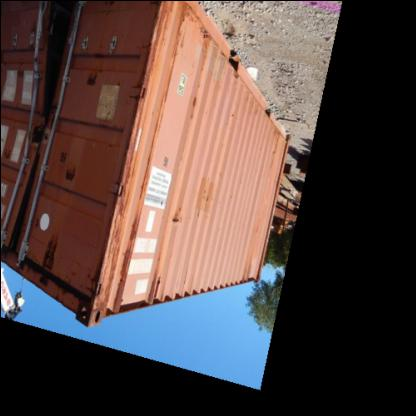Damage: (3, 0, 74, 138), (100, 203, 140, 294), (166, 3, 216, 72), (35, 236, 59, 302), (52, 149, 84, 193), (193, 176, 217, 214), (168, 198, 186, 233), (186, 101, 204, 133), (83, 70, 103, 93)
